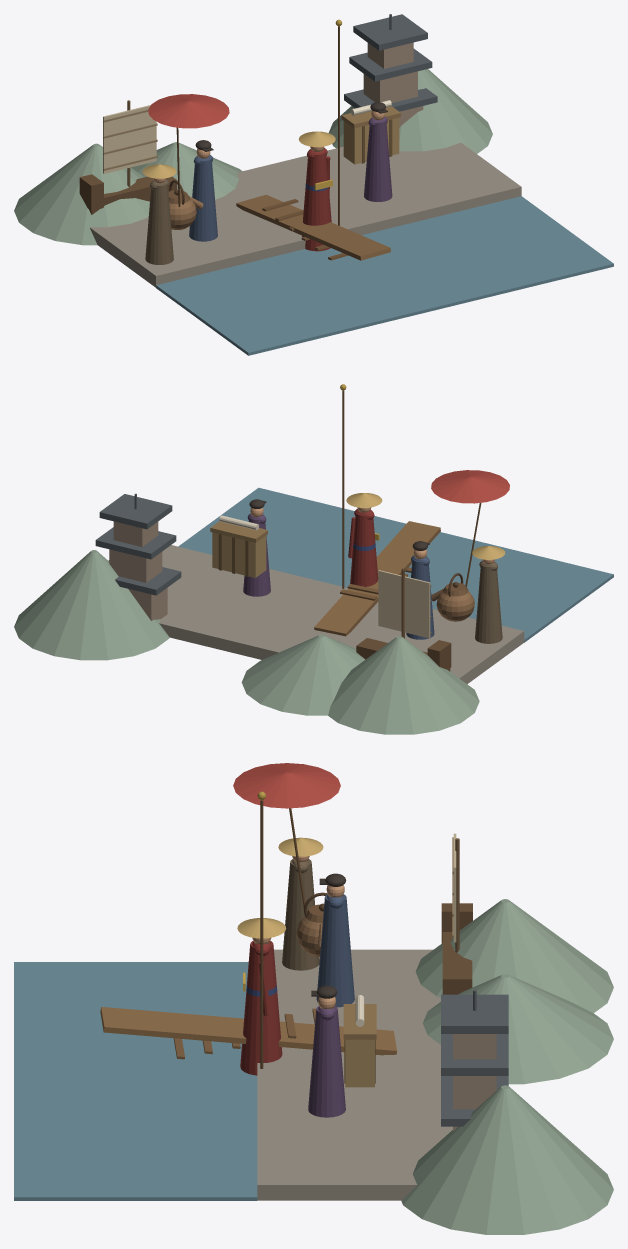
Rendered from scan-fig57-chinese-commission-muse.glb.
3 views of the same model, one above another, from view 1: azimuth 30°, elevation 25°; view 2: azimuth 150°, elevation 25°; view 3: azimuth 270°, elevation 25° (orthographic). The views are drawn at different scales.
Visible parts, largest first — view 1: water, quay, hill, hill.002, gangplank, junk_sail, parasol_canopy, hill.001, robe.003, robe.002, robe, robe.001 (+11 smaller); view 2: water, quay, hill.002, hill, hill.001, gangplank, junk_sail, parasol_canopy, robe.003, hamper, pagoda_roof.002, robe (+11 smaller); view 3: water, quay, hill.002, hill, hill.001, gangplank, parasol_canopy, robe, robe.002, robe.001, pagoda_roof.002, robe.003 (+12 smaller).
Boxes of the visible parts, bbox=[...] form: water: bbox=[156, 196, 613, 355]; quay: bbox=[89, 142, 521, 287]; hill: bbox=[14, 143, 149, 245]; hill.002: bbox=[329, 69, 492, 153]; gangplank: bbox=[236, 194, 390, 260]; junk_sail: bbox=[103, 105, 156, 173]; parasol_canopy: bbox=[148, 94, 229, 128]; hill.001: bbox=[131, 142, 242, 199]; robe.003: bbox=[145, 181, 173, 264]; robe.002: bbox=[364, 118, 392, 201]; robe: bbox=[302, 149, 331, 251]; robe.001: bbox=[189, 156, 217, 241]; water: bbox=[178, 487, 613, 642]; quay: bbox=[159, 545, 524, 684]; hill.002: bbox=[14, 550, 169, 660]; hill: bbox=[328, 636, 479, 734]; hill.001: bbox=[241, 634, 365, 715]; gangplank: bbox=[314, 521, 440, 636]; junk_sail: bbox=[378, 570, 430, 638]; parasol_canopy: bbox=[431, 470, 509, 503]; robe.003: bbox=[475, 562, 502, 643]; hamper: bbox=[212, 532, 266, 577]; pagoda_roof.002: bbox=[99, 494, 172, 529]; robe: bbox=[350, 510, 378, 586]; water: bbox=[14, 962, 257, 1200]; quay: bbox=[257, 949, 452, 1200]; hill.002: bbox=[401, 1085, 613, 1234]; hill: bbox=[415, 899, 613, 1013]; hill.001: bbox=[422, 974, 613, 1084]; gangplank: bbox=[100, 1007, 396, 1055]; parasol_canopy: bbox=[233, 763, 340, 808]; robe: bbox=[240, 941, 282, 1075]; robe.002: bbox=[308, 1006, 345, 1117]; robe.001: bbox=[316, 894, 354, 1007]; pagoda_roof.002: bbox=[441, 994, 508, 1033]; robe.003: bbox=[282, 859, 319, 970].
Bounding box in the file's own units: 7.96 × 3.72 × 6.9.
